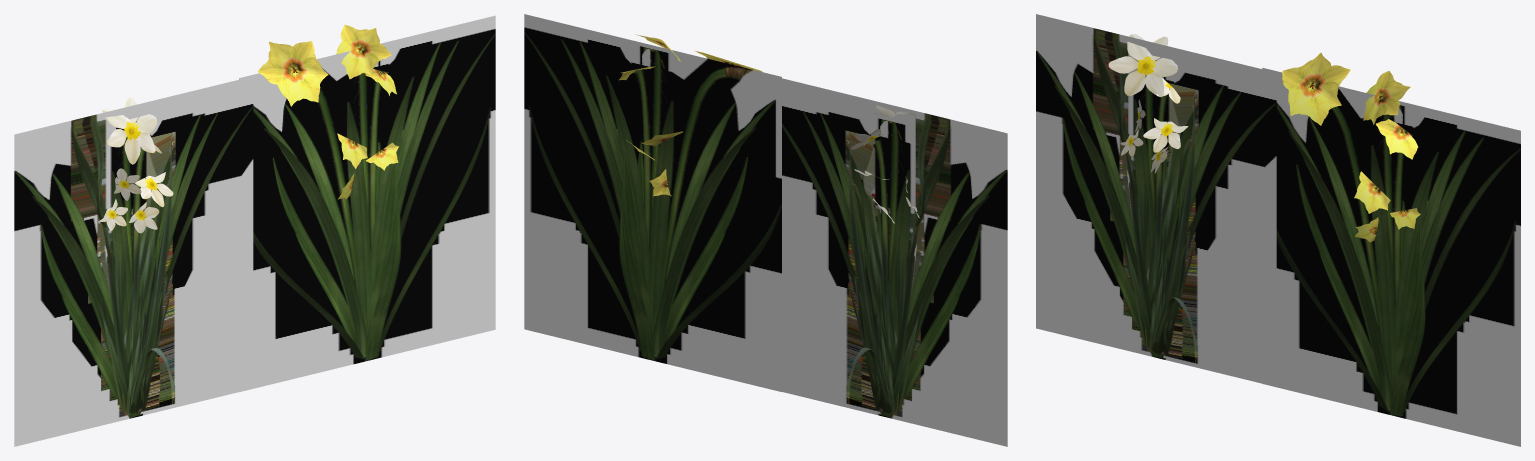
File: o3_narcisi.glb
3 renders of one model, left to right at view 1: azimuth 30°, elevation 25°; view 2: azimuth 150°, elevation 25°; view 3: azimuth 330°, elevation 25°, orthographic.
Parts seen in each view (by area): view 1: sb_modello; view 2: sb_modello; view 3: sb_modello.
Boxes of the visible parts, x1,y1,x2,y2 form: sb_modello: [14, 15, 495, 446]; sb_modello: [524, 14, 1007, 446]; sb_modello: [1036, 14, 1520, 446].
Size of the model in its own units: 1.16 by 0.77 by 0.1447.
4 materials, 4 textured.
